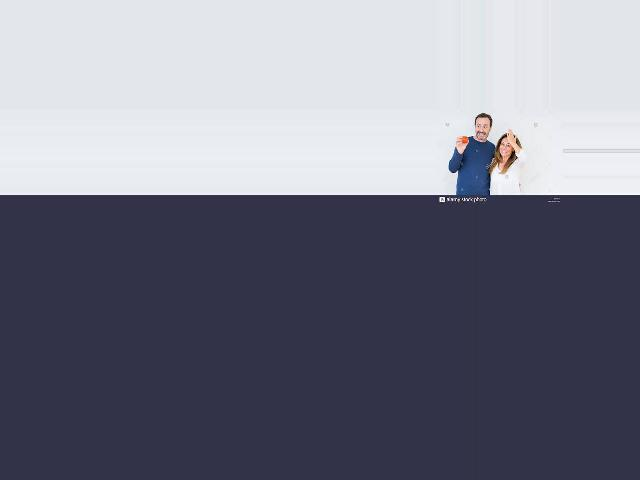tomato: (462, 135, 469, 142)
